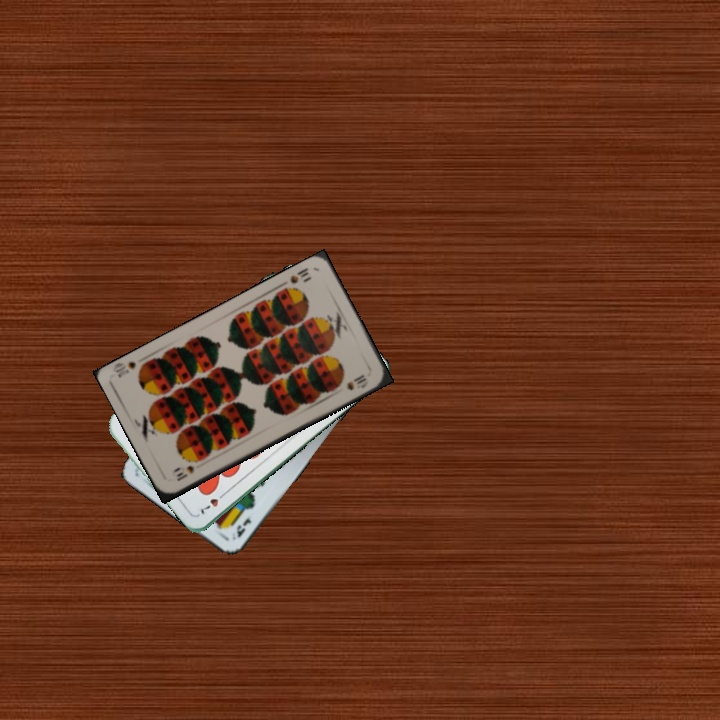EK: (227, 514, 254, 543)
H7: (195, 487, 229, 517)
S10: (172, 461, 197, 484), (286, 263, 311, 286)
